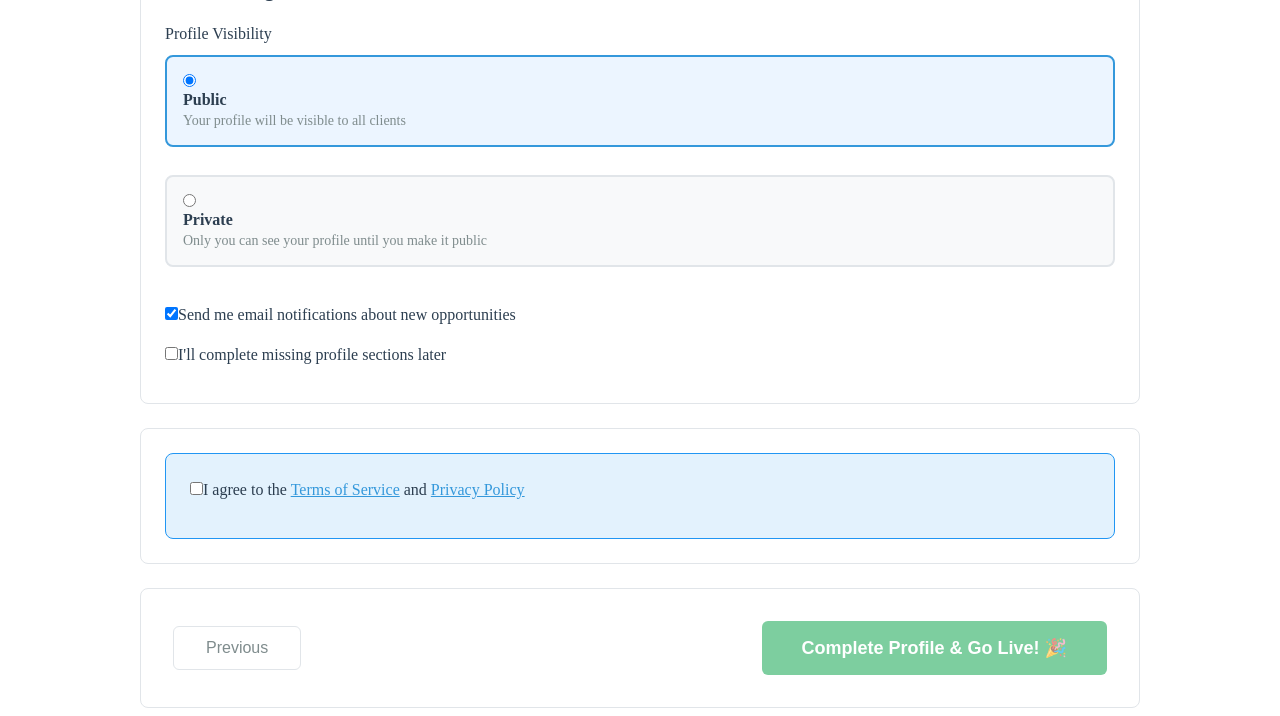
ReviewStep Component › Validation › enables complete button when all validations pass
(page scrolled)
Agree to terms
Click the checkbox labelled "I agree to the Terms of Service and Privacy Policy".
click(196, 489)  # box [190,482,203,495]
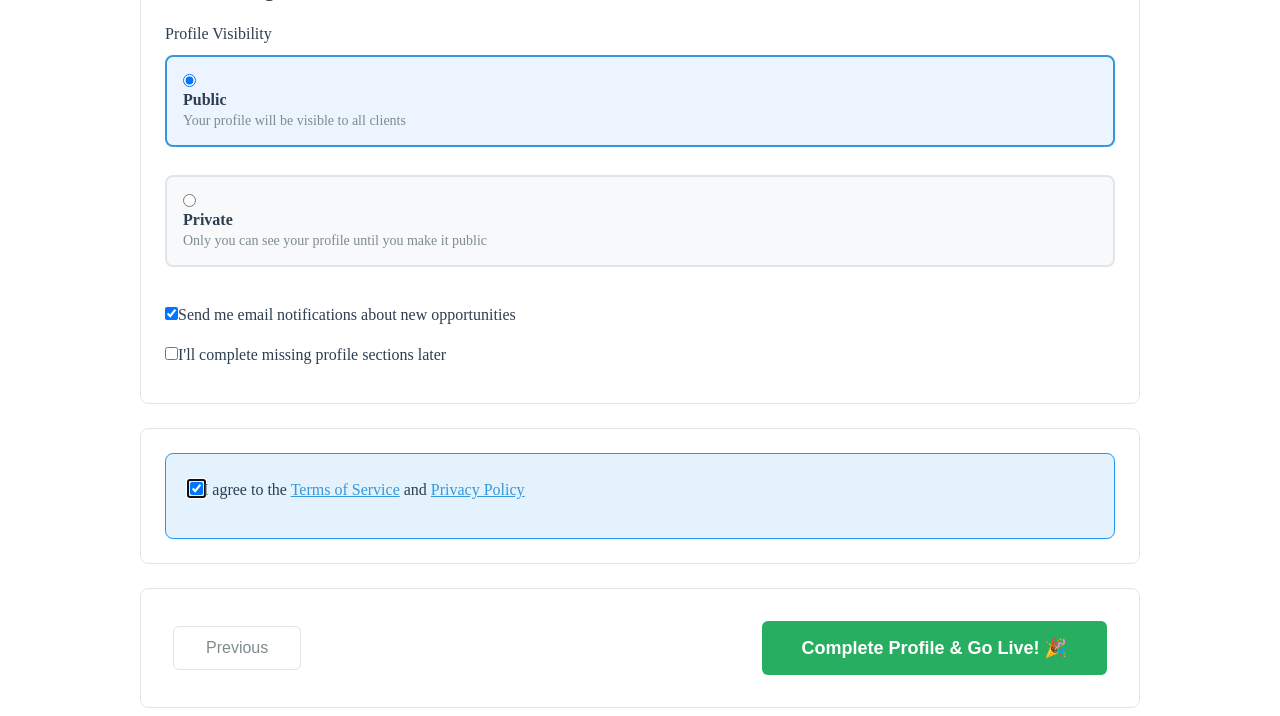
Result: the button "Complete Profile & Go Live! 🎉" is enabled at [762,621,1107,675]
